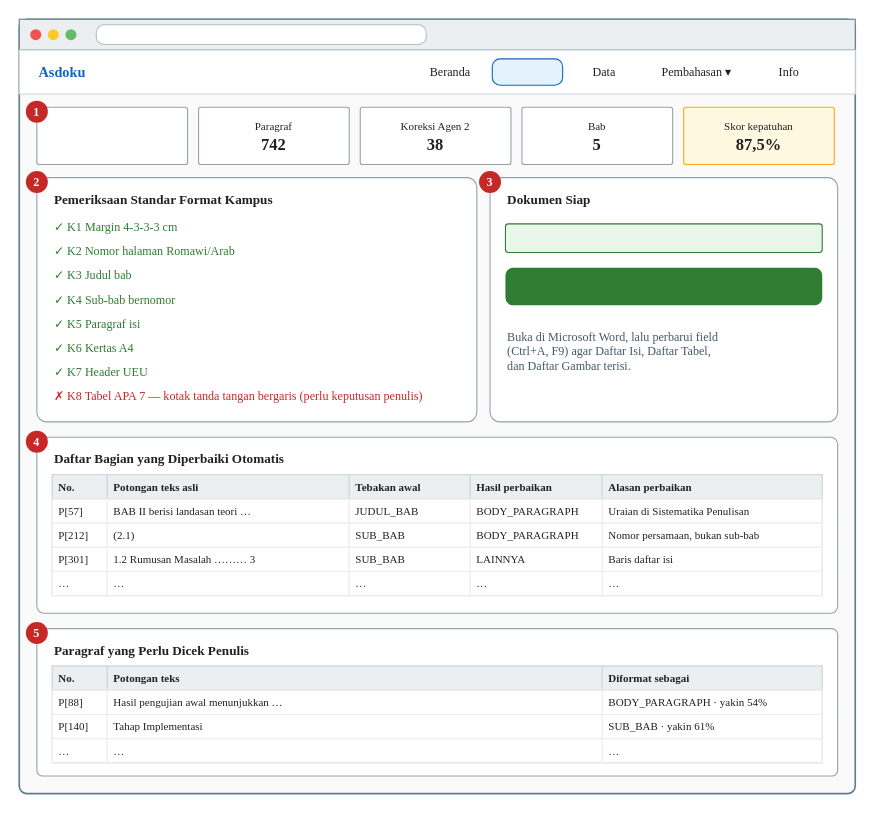
This 876x814 diagram has some shape labels left out. Each missing label, with the box of its shape:
(Asdoku) - naskah.docx: (504, 223, 822, 252)
Alat: (491, 58, 563, 85)
localhost:8000/alat: (95, 24, 426, 45)
Unduh Dokumen (.docx): (505, 267, 822, 305)
Waktu proses 2,1 s: (36, 106, 188, 164)
